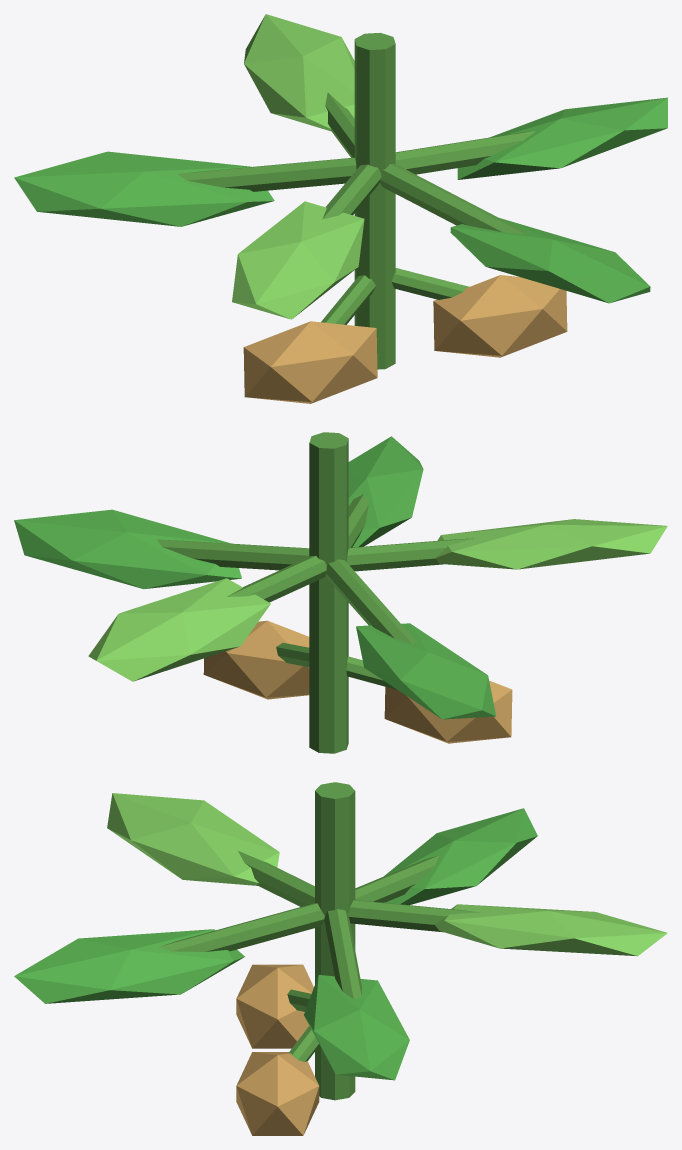
The model's file is Peanut.glb.
3 renders of one model, top to bottom at view 1: azimuth 30°, elevation 25°; view 2: azimuth 150°, elevation 25°; view 3: azimuth 270°, elevation 25°, orthographic. The views are drawn at different scales.
Parts seen in each view (by area): view 1: FTF_Plant_Peanut_Mature_Mesh; view 2: FTF_Plant_Peanut_Mature_Mesh; view 3: FTF_Plant_Peanut_Mature_Mesh.
Boxes of the visible parts, box(x1,y1,x2,y2) form: FTF_Plant_Peanut_Mature_Mesh: box(14, 14, 667, 403); FTF_Plant_Peanut_Mature_Mesh: box(14, 432, 667, 753); FTF_Plant_Peanut_Mature_Mesh: box(14, 782, 667, 1135).
Bounding box in the file's own units: 1.09 × 0.58 × 1.14.
